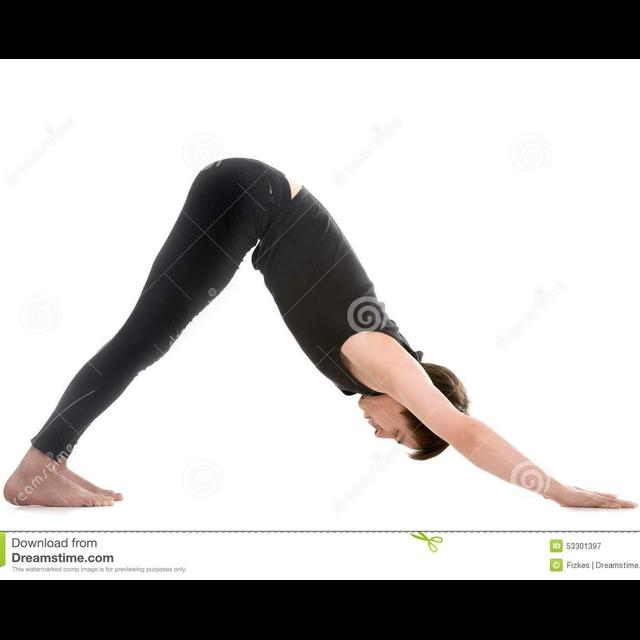Downward-Facing_Dog: (3, 150, 640, 518)
